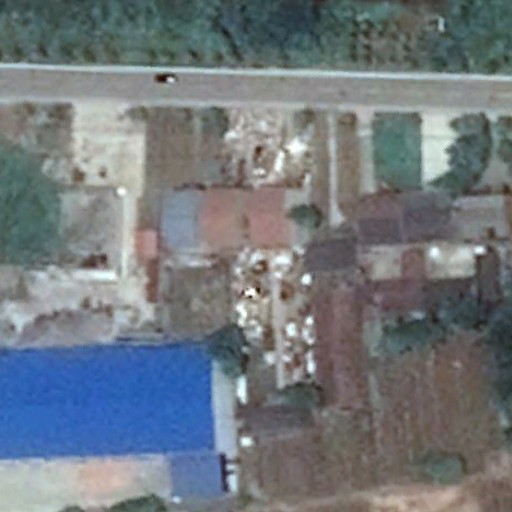msw: (235, 244, 319, 385), (237, 111, 311, 185)
